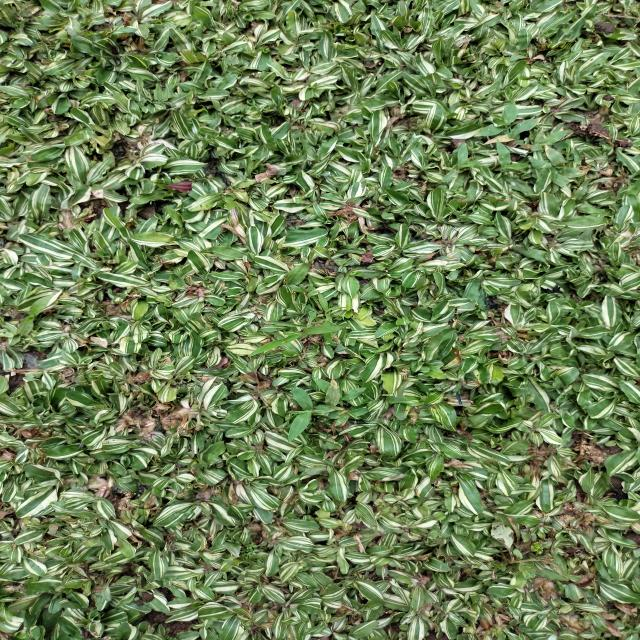rambat atas: (287, 372, 344, 443), (244, 324, 344, 358), (471, 99, 544, 142), (437, 140, 484, 186), (529, 128, 570, 152), (317, 290, 353, 314), (333, 407, 370, 427)
rambat bawah: (12, 293, 56, 336)
